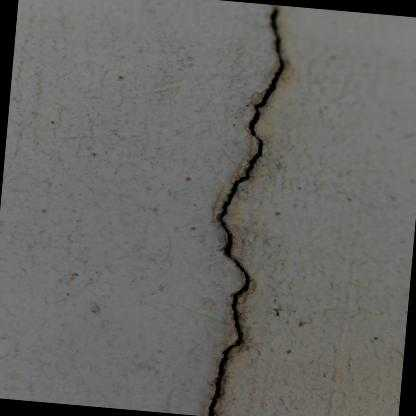crack: (201, 4, 292, 416)
